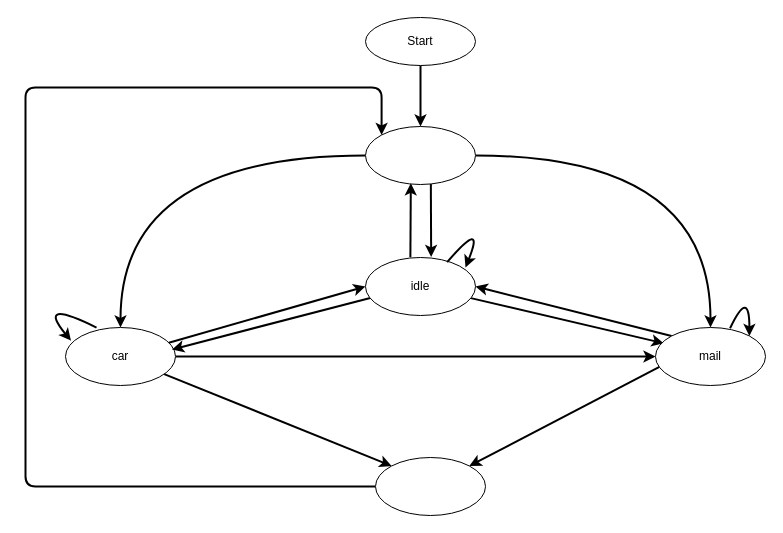
Some shapes in this 783 by 533 pixel diagram are drawn without their labels. Each missing label, with the centre of its shape:
error: point (430, 486)
Initialized: point (420, 155)
